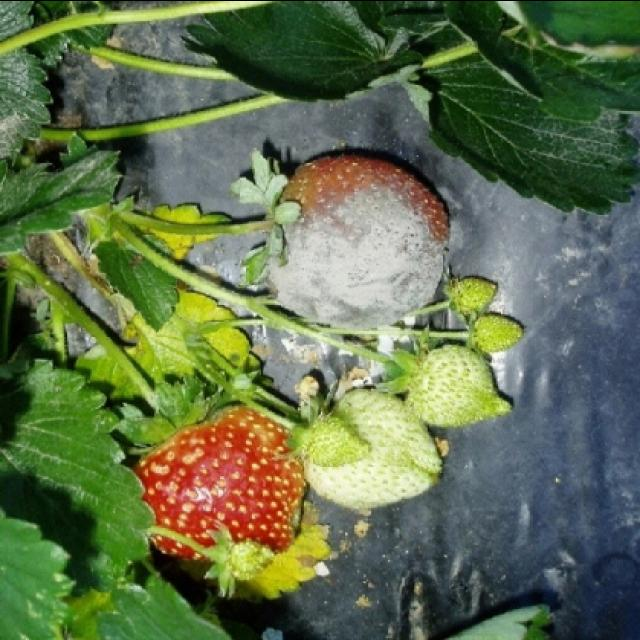Gray Mold: (267, 154, 448, 330)
